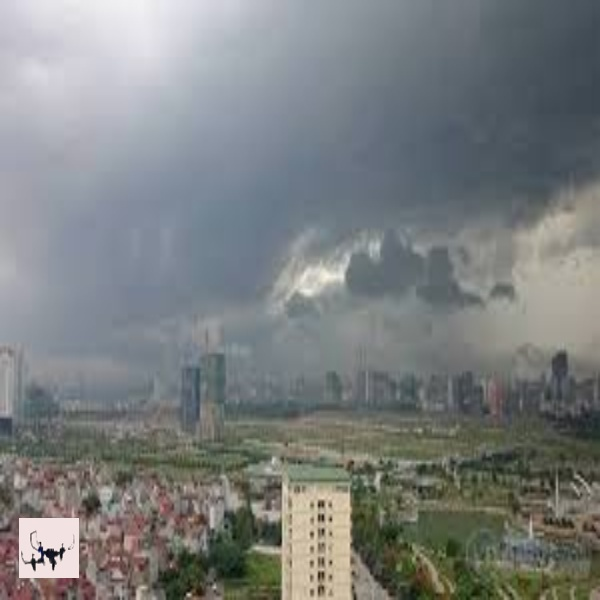drone: (22, 527, 76, 574)
